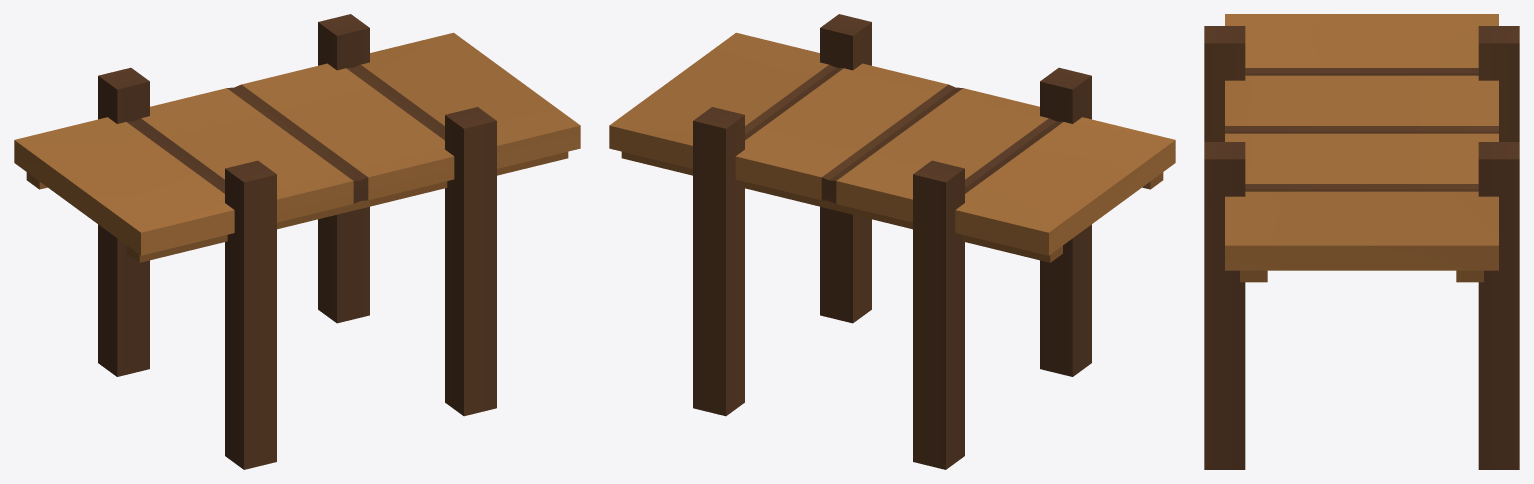
The model's file is Walkway_Wood_01.fbx.
3 views of the same model, side by side, from view 1: azimuth 30°, elevation 25°; view 2: azimuth 150°, elevation 25°; view 3: azimuth 270°, elevation 25° (orthographic). The views are drawn at different scales.
Parts seen in each view (by area): view 1: Walkway_Wood_01.001, Walkway_Leg, Walkway_Wood_01; view 2: Walkway_Wood_01.001, Walkway_Leg, Walkway_Wood_01; view 3: Walkway_Wood_01.001, Walkway_Leg, Walkway_Wood_01.
Boxes of the visible parts, <box> form: Walkway_Wood_01.001: <box>14,32,580,255</box>; Walkway_Leg: <box>98,14,496,469</box>; Walkway_Wood_01: <box>26,151,568,262</box>; Walkway_Wood_01.001: <box>609,32,1175,255</box>; Walkway_Leg: <box>693,14,1091,469</box>; Walkway_Wood_01: <box>621,151,1163,262</box>; Walkway_Wood_01.001: <box>1225,14,1498,270</box>; Walkway_Leg: <box>1204,26,1519,469</box>; Walkway_Wood_01: <box>1240,270,1483,282</box>.
Bounding box in the file's own units: 4 × 2.5 × 2.3.
